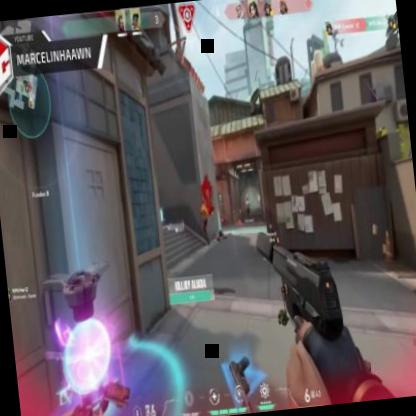enemy: (200, 202, 210, 244)
enemy_head: (202, 202, 206, 209)
